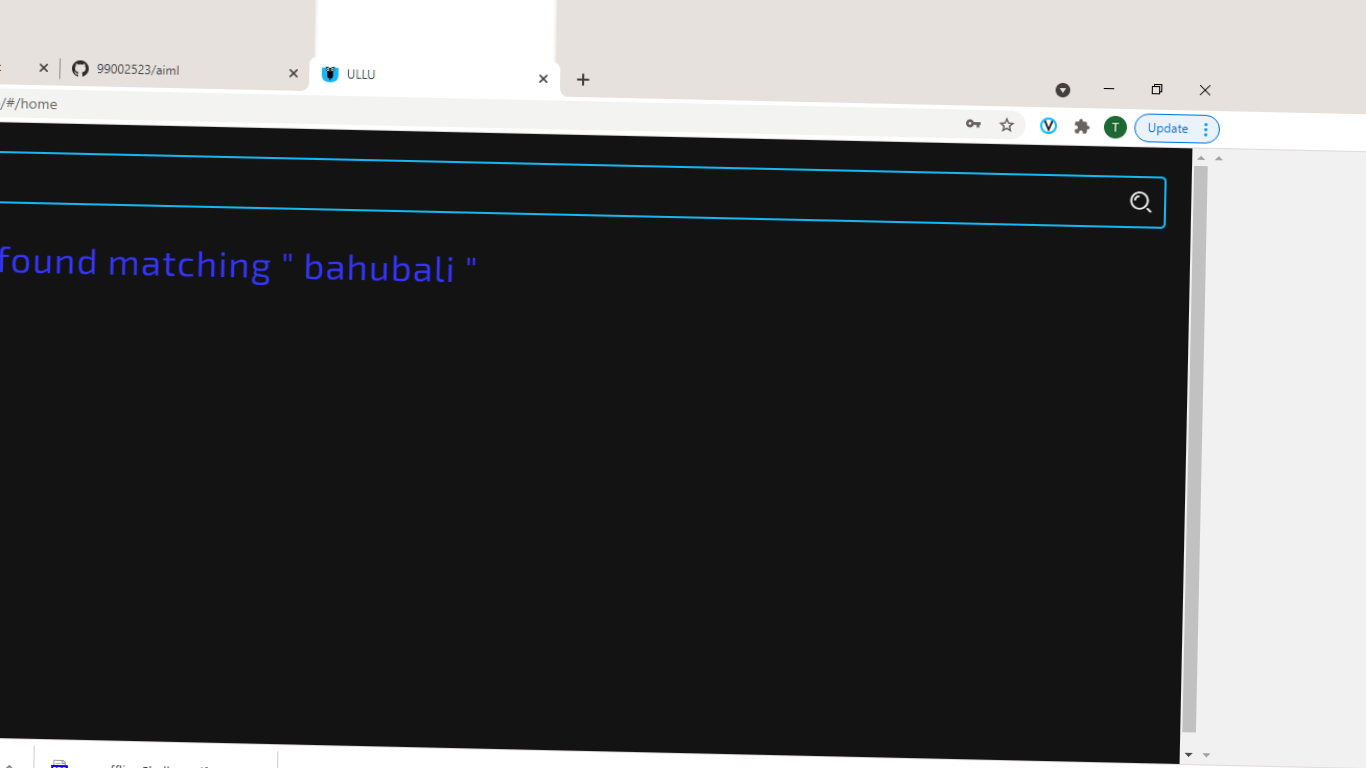noresultsfound: (1, 236, 489, 311)
searchicon: (1109, 177, 1166, 235)
searchtextbox: (1, 147, 1168, 231)
